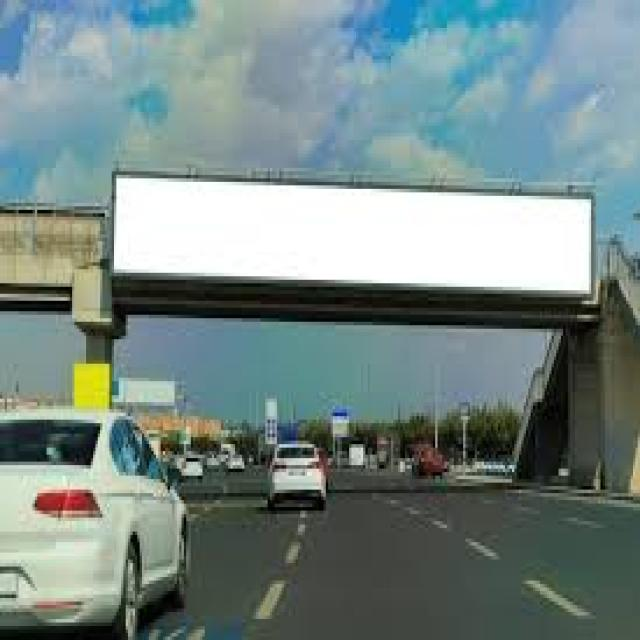Billboard_overhead: (106, 158, 622, 340)
Roadlane: (361, 469, 606, 637), (237, 502, 321, 635)
